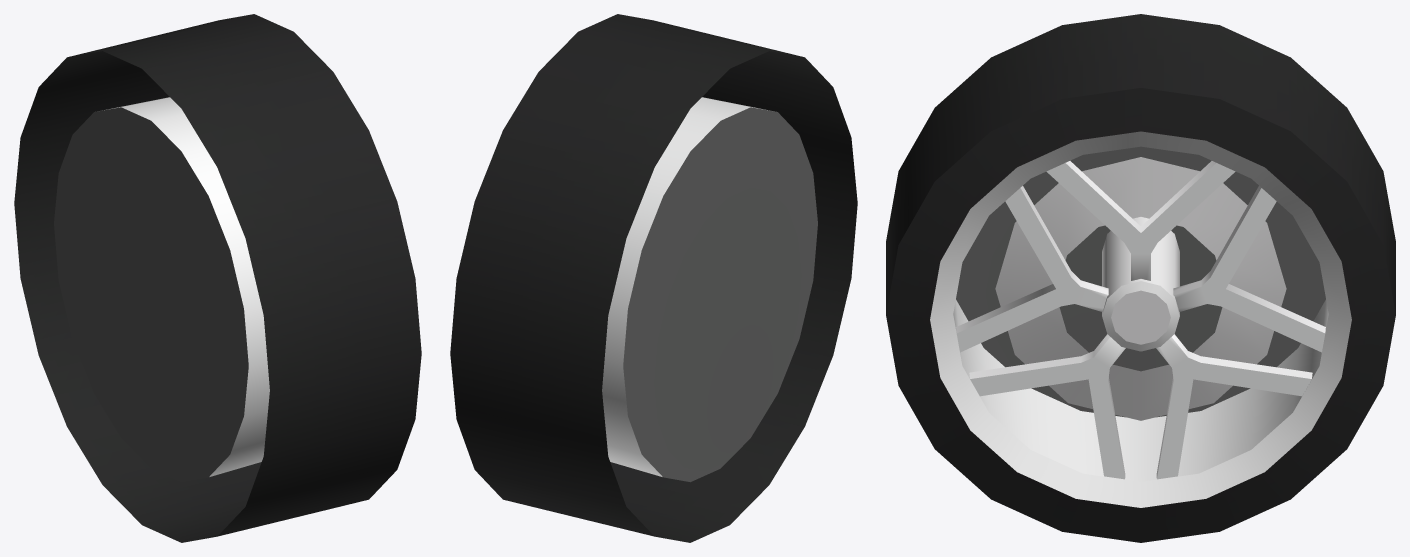
File: WheelMod_07.fbx
3 views of the same model, side by side, from view 1: azimuth 30°, elevation 25°; view 2: azimuth 150°, elevation 25°; view 3: azimuth 270°, elevation 25° (orthographic).
Parts seen in each view (by area): view 1: FrontLeftWheel; view 2: FrontLeftWheel; view 3: FrontLeftWheel.
Part boxes in pixels (x1,y1,x2,y2): FrontLeftWheel: (14,14,421,542); FrontLeftWheel: (450,14,857,542); FrontLeftWheel: (886,14,1395,542).
Size of the model in its own units: 27.17 by 73.74 by 74.88.
